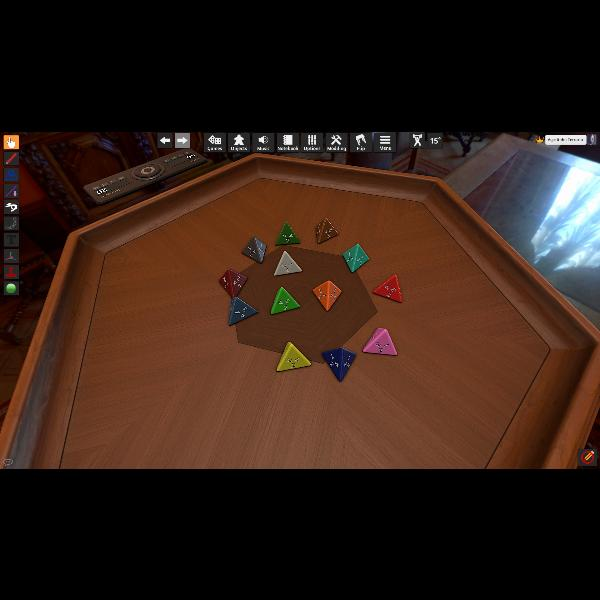d4: (323, 346, 355, 380), (277, 341, 311, 372), (228, 296, 258, 326), (270, 286, 300, 314), (312, 280, 340, 310), (219, 268, 247, 298), (364, 328, 396, 354), (373, 274, 401, 302), (342, 244, 368, 272), (274, 250, 302, 276), (242, 236, 266, 264), (276, 221, 300, 245), (317, 217, 338, 243)
